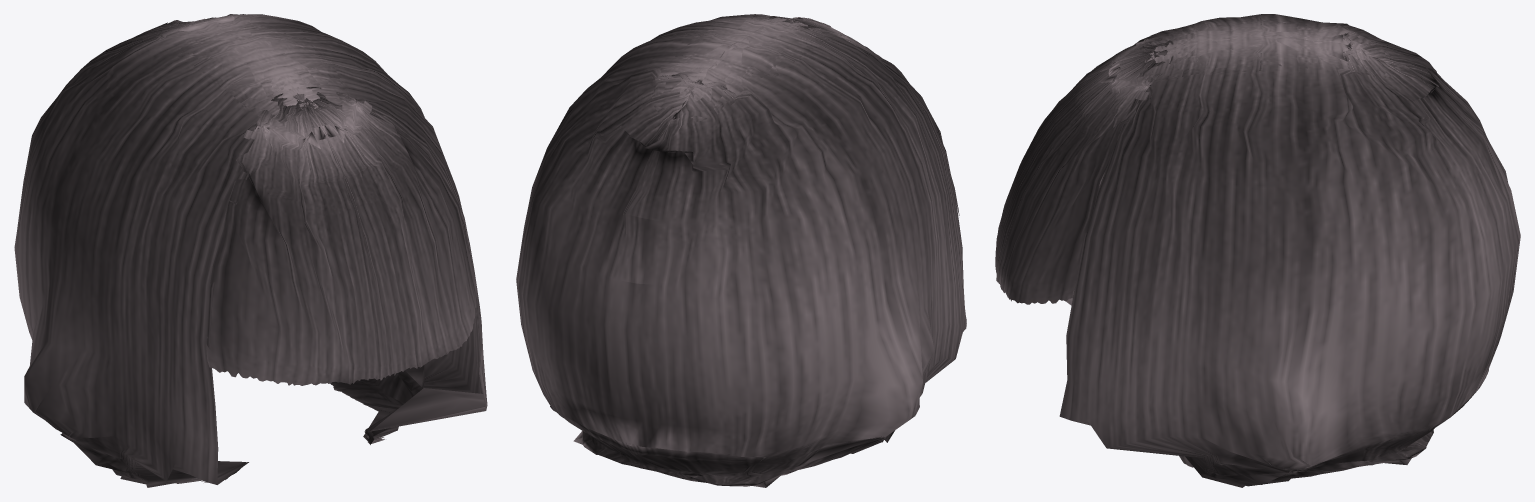
The model's file is hair_bob01.glb.
3 renders of one model, left to right at view 1: azimuth 30°, elevation 25°; view 2: azimuth 150°, elevation 25°; view 3: azimuth 270°, elevation 25°, orthographic. The views are drawn at different scales.
Parts seen in each view (by area): view 1: hair_bob01; view 2: hair_bob01; view 3: hair_bob01.
Boxes of the visible parts, left/top/right/bottom form: hair_bob01: left=14, top=14, right=487, bottom=487; hair_bob01: left=516, top=14, right=966, bottom=487; hair_bob01: left=995, top=14, right=1520, bottom=487.
Bounding box in the file's own units: 0.1716 × 0.1552 × 0.1918.
1 material, 1 textured.
